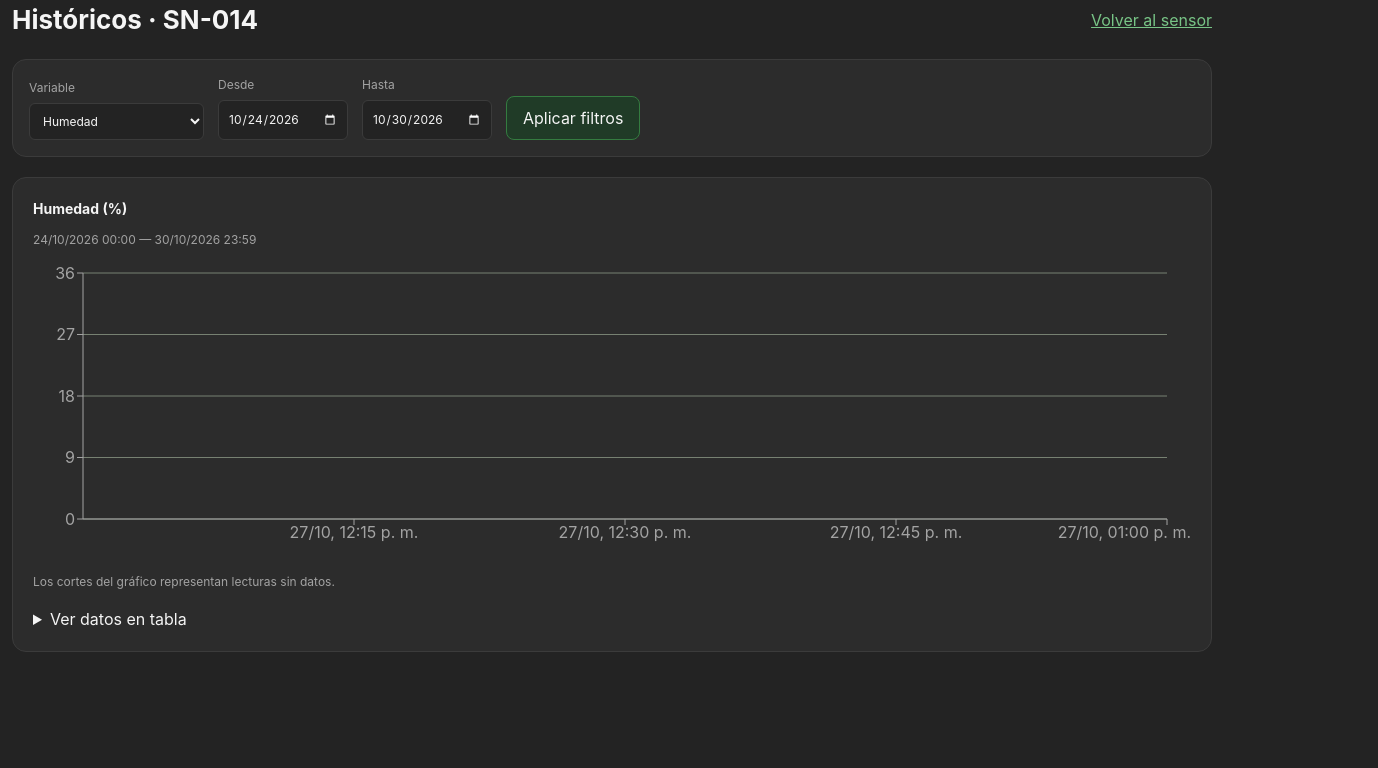
Test: históricos › no hace pedidos cuando el rango es inválido
expect the picture is shown: met, box [33,261,1191,561]
In the date field labelled "Desde": x=283, y=120 [218,100,348,140], type "2030-01-02"
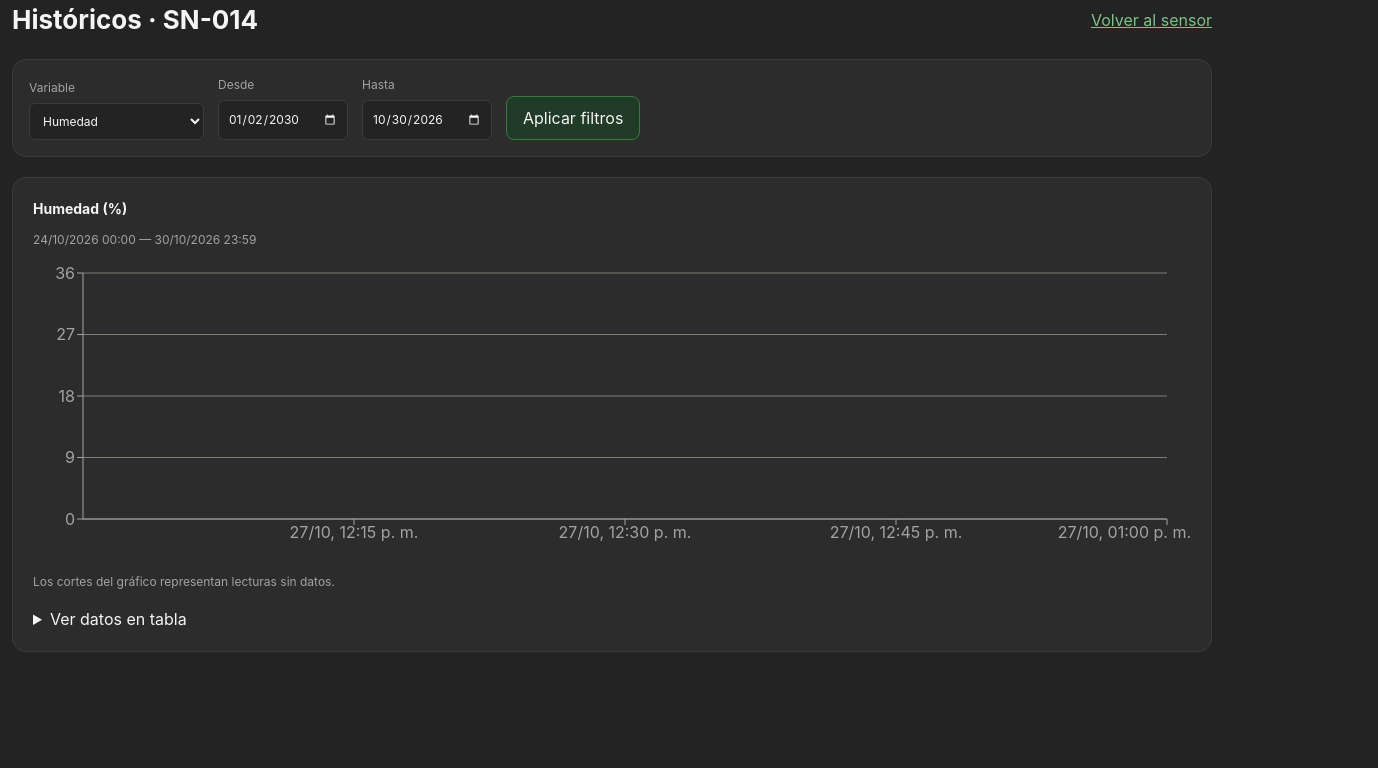
In the date field labelled "Hasta": x=427, y=120 [362,100,492,140], type "2030-01-01"
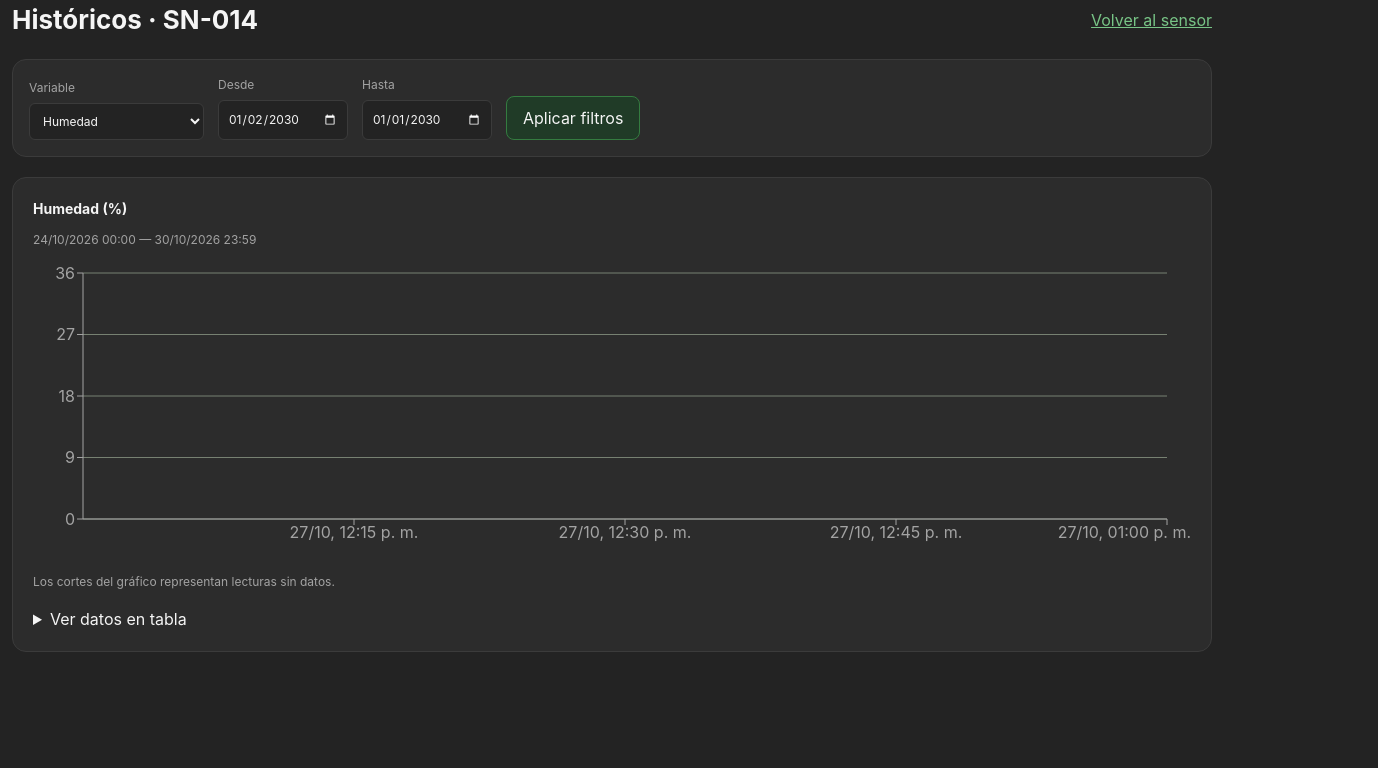
Click the button "Aplicar filtros": x=573, y=118 [506,96,640,140]
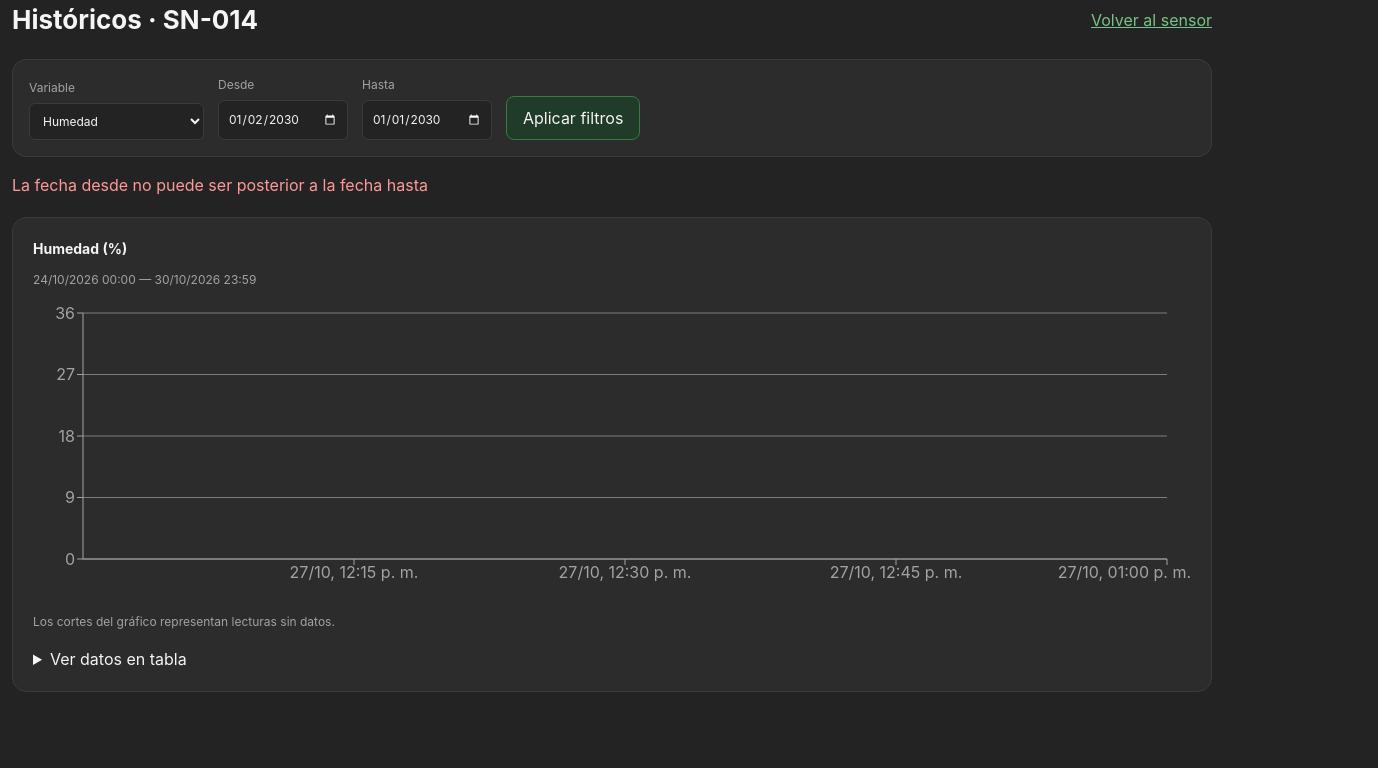
expect the message shows "posterior": met, box [12,175,428,195]
